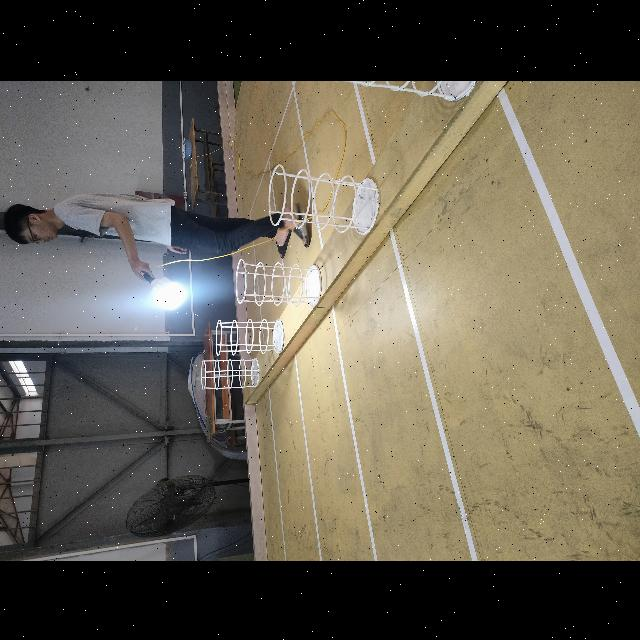S: (268, 162, 380, 234), (234, 258, 322, 308), (332, 80, 481, 102), (216, 317, 284, 355), (200, 358, 260, 388)
